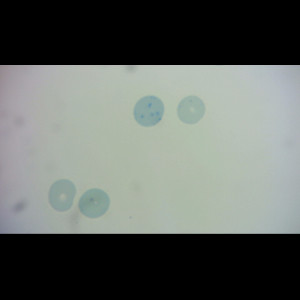aggregate reticulocyte: (133, 95, 166, 127)
erythrocyte: (78, 188, 111, 220), (47, 178, 77, 212)
punctate reticulocyte: (176, 95, 207, 126)
